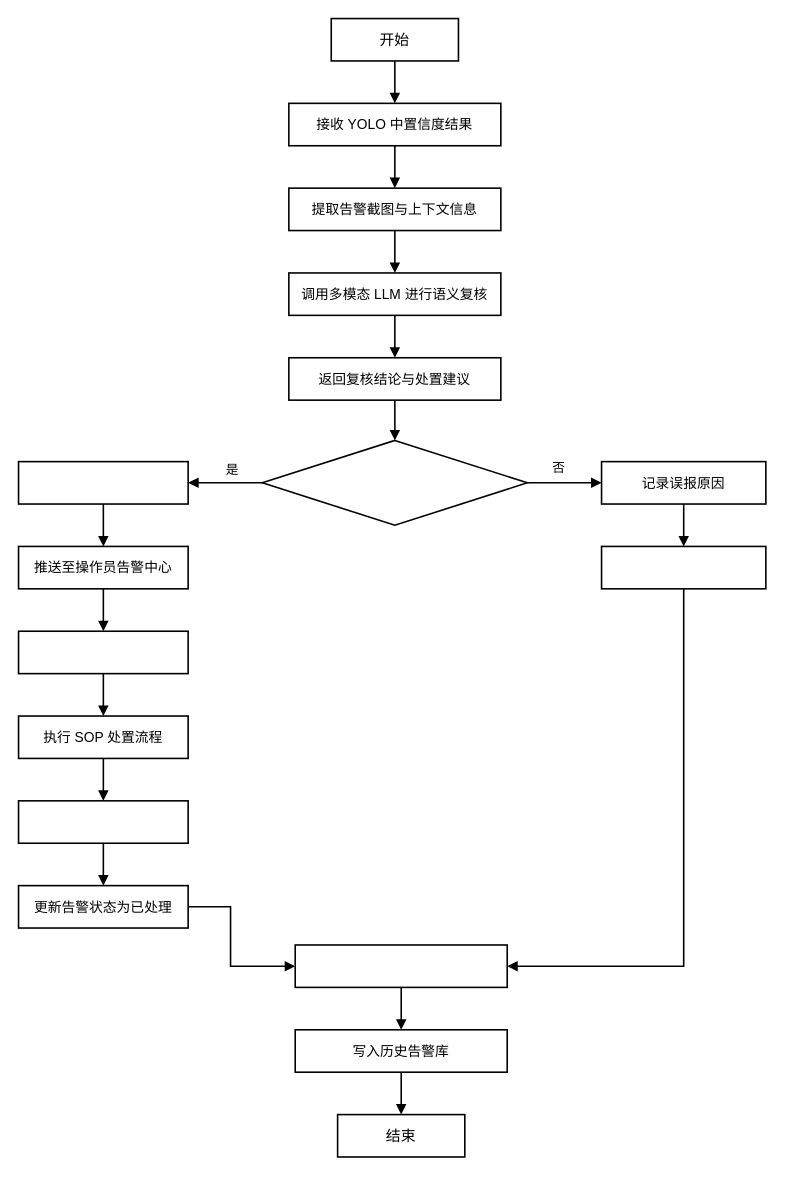
The diagram is 785 pixels wide and 1177 high, and some of its shapes have lost their labels. Here are the shapes that lost their labels. From the top down, the centre of each, then its label:
At pixel 102 482: "生成正式告警事件".
At pixel 394 482: "复核结论是否为真实火灾？".
At pixel 683 567: "标记告警为误报归档".
At pixel 102 652: "操作员查看告警详情".
At pixel 102 822: "填写处理备注并提交结果".
At pixel 401 966: "保存复核结果与处理记录".
